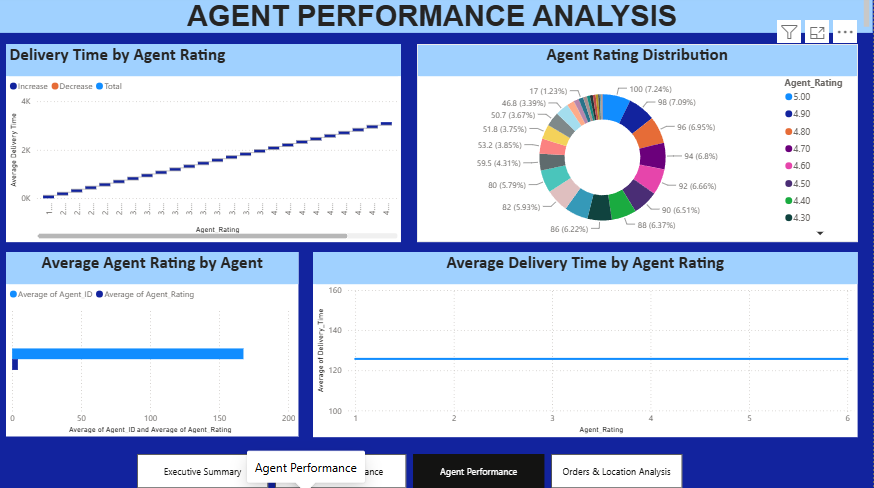

The page's visual inventory and layout, read from the dashboard file:
{"tool":"powerbi","page":{"name":"Agent Performance ","canvas":[1280,720],"ordinal":2},"visuals":[{"type":"textbox","box":[0,0,1279.7,53.6],"z":0},{"type":"clusteredBarChart","title":"Average Agent Rating by Agent","fields":{"Y":["Avg(amazondelivery_db agents.Agent_ID)","Avg(amazondelivery_db agents.Agent_Rating)"]},"box":[11.6,375.4,428.2,270.4],"z":1000},{"type":"waterfallChart","title":"Delivery Time by Agent Rating","fields":{"Category":["amazondelivery_db agents.Agent_Rating"],"Y":["amazondelivery_db delivery_details.Average Delivery Time"]},"box":[11.6,69.6,578.3,289.9],"z":2000},{"type":"donutChart","title":"Agent Rating Distribution","fields":{"Category":["amazondelivery_db agents.Agent_Rating"],"Y":["Sum(amazondelivery_db agents.Agent_Rating)"]},"box":[613,69.6,644.9,289.9],"z":3000},{"type":"lineChart","title":"Average Delivery Time by Agent Rating","fields":{"Y":["Avg(amazondelivery_db delivery_details.Delivery_Time)"],"Category":["amazondelivery_db agents.Agent_Rating"]},"box":[460.9,375.4,797.1,271],"z":4000},{"type":"pageNavigator","box":[202.9,669.6,800,50],"z":5000}]}

Visuals, with their boxes on the page's 1280x720 design canvas (x1, y1, x2, y2). These are canvas units, not pixel positions in the 874x488 screenshot, which may show the page scaled, cropped or inside an application window:
textbox: left=0, top=0, right=1280, bottom=54
"Average Agent Rating by Agent" clusteredBarChart: left=12, top=375, right=440, bottom=646
"Delivery Time by Agent Rating" waterfallChart: left=12, top=70, right=590, bottom=360
"Agent Rating Distribution" donutChart: left=613, top=70, right=1258, bottom=360
"Average Delivery Time by Agent Rating" lineChart: left=461, top=375, right=1258, bottom=646
pageNavigator: left=203, top=670, right=1003, bottom=720
